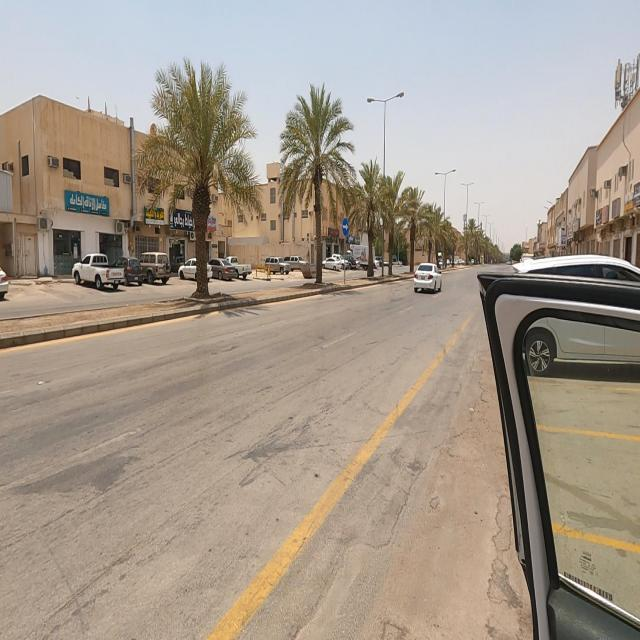debris: (554, 198, 616, 259), (584, 191, 640, 252)
